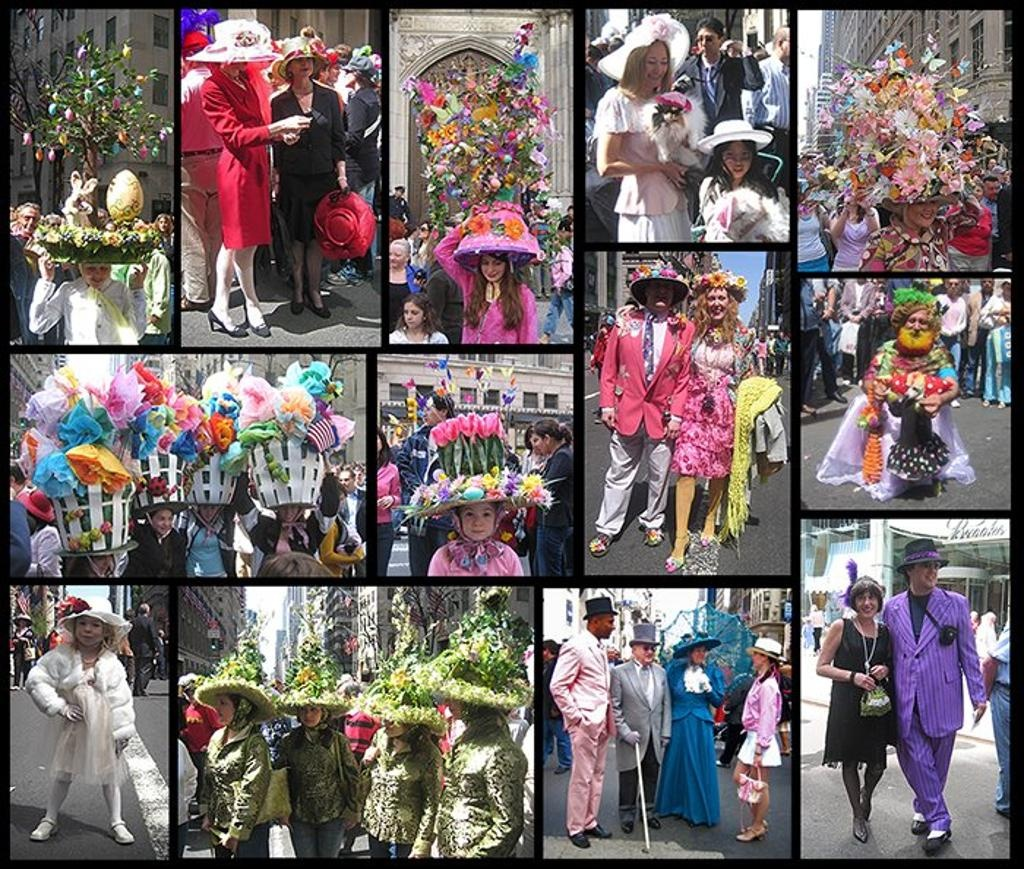human_face: (460, 504, 494, 542), (721, 142, 753, 178), (644, 47, 668, 89), (74, 617, 102, 647), (904, 310, 928, 344), (646, 280, 674, 308), (908, 202, 938, 228), (82, 261, 110, 288), (480, 255, 506, 283), (706, 289, 728, 321), (854, 592, 878, 619), (215, 694, 235, 726), (914, 562, 938, 588), (696, 29, 718, 57), (17, 209, 39, 234), (402, 302, 422, 328), (382, 713, 402, 739), (634, 642, 656, 664), (421, 400, 441, 424), (298, 706, 322, 726), (152, 511, 172, 534), (226, 59, 248, 79), (292, 57, 312, 79), (532, 432, 550, 456), (181, 50, 197, 74), (388, 244, 404, 268), (600, 614, 616, 638), (775, 30, 789, 56), (872, 292, 886, 318), (278, 504, 298, 522), (750, 648, 768, 668), (200, 503, 218, 522), (844, 193, 860, 213), (334, 686, 350, 706), (342, 66, 356, 88), (985, 181, 999, 201), (20, 456, 32, 478), (690, 646, 706, 662), (338, 473, 352, 491), (585, 52, 601, 67), (804, 154, 818, 171), (328, 62, 340, 81), (46, 217, 60, 233), (946, 278, 960, 294), (318, 62, 328, 82), (968, 610, 978, 630), (132, 216, 144, 232), (602, 28, 614, 44), (418, 222, 428, 241), (970, 185, 980, 202), (335, 492, 345, 508), (961, 278, 971, 293), (184, 690, 196, 702), (158, 218, 168, 232), (996, 170, 1006, 184), (806, 188, 816, 202), (982, 278, 992, 292), (97, 213, 107, 225), (558, 227, 568, 239), (502, 443, 512, 454), (724, 47, 734, 57), (9, 206, 15, 222), (836, 160, 844, 172), (846, 126, 854, 138), (541, 648, 549, 660), (553, 238, 561, 248), (962, 170, 970, 180), (1003, 282, 1009, 294), (118, 225, 126, 233), (355, 470, 363, 478), (516, 448, 524, 456), (18, 620, 26, 628), (394, 189, 400, 199), (988, 161, 994, 171), (567, 208, 573, 216), (965, 147, 971, 155), (545, 178, 549, 182), (976, 139, 980, 143)
